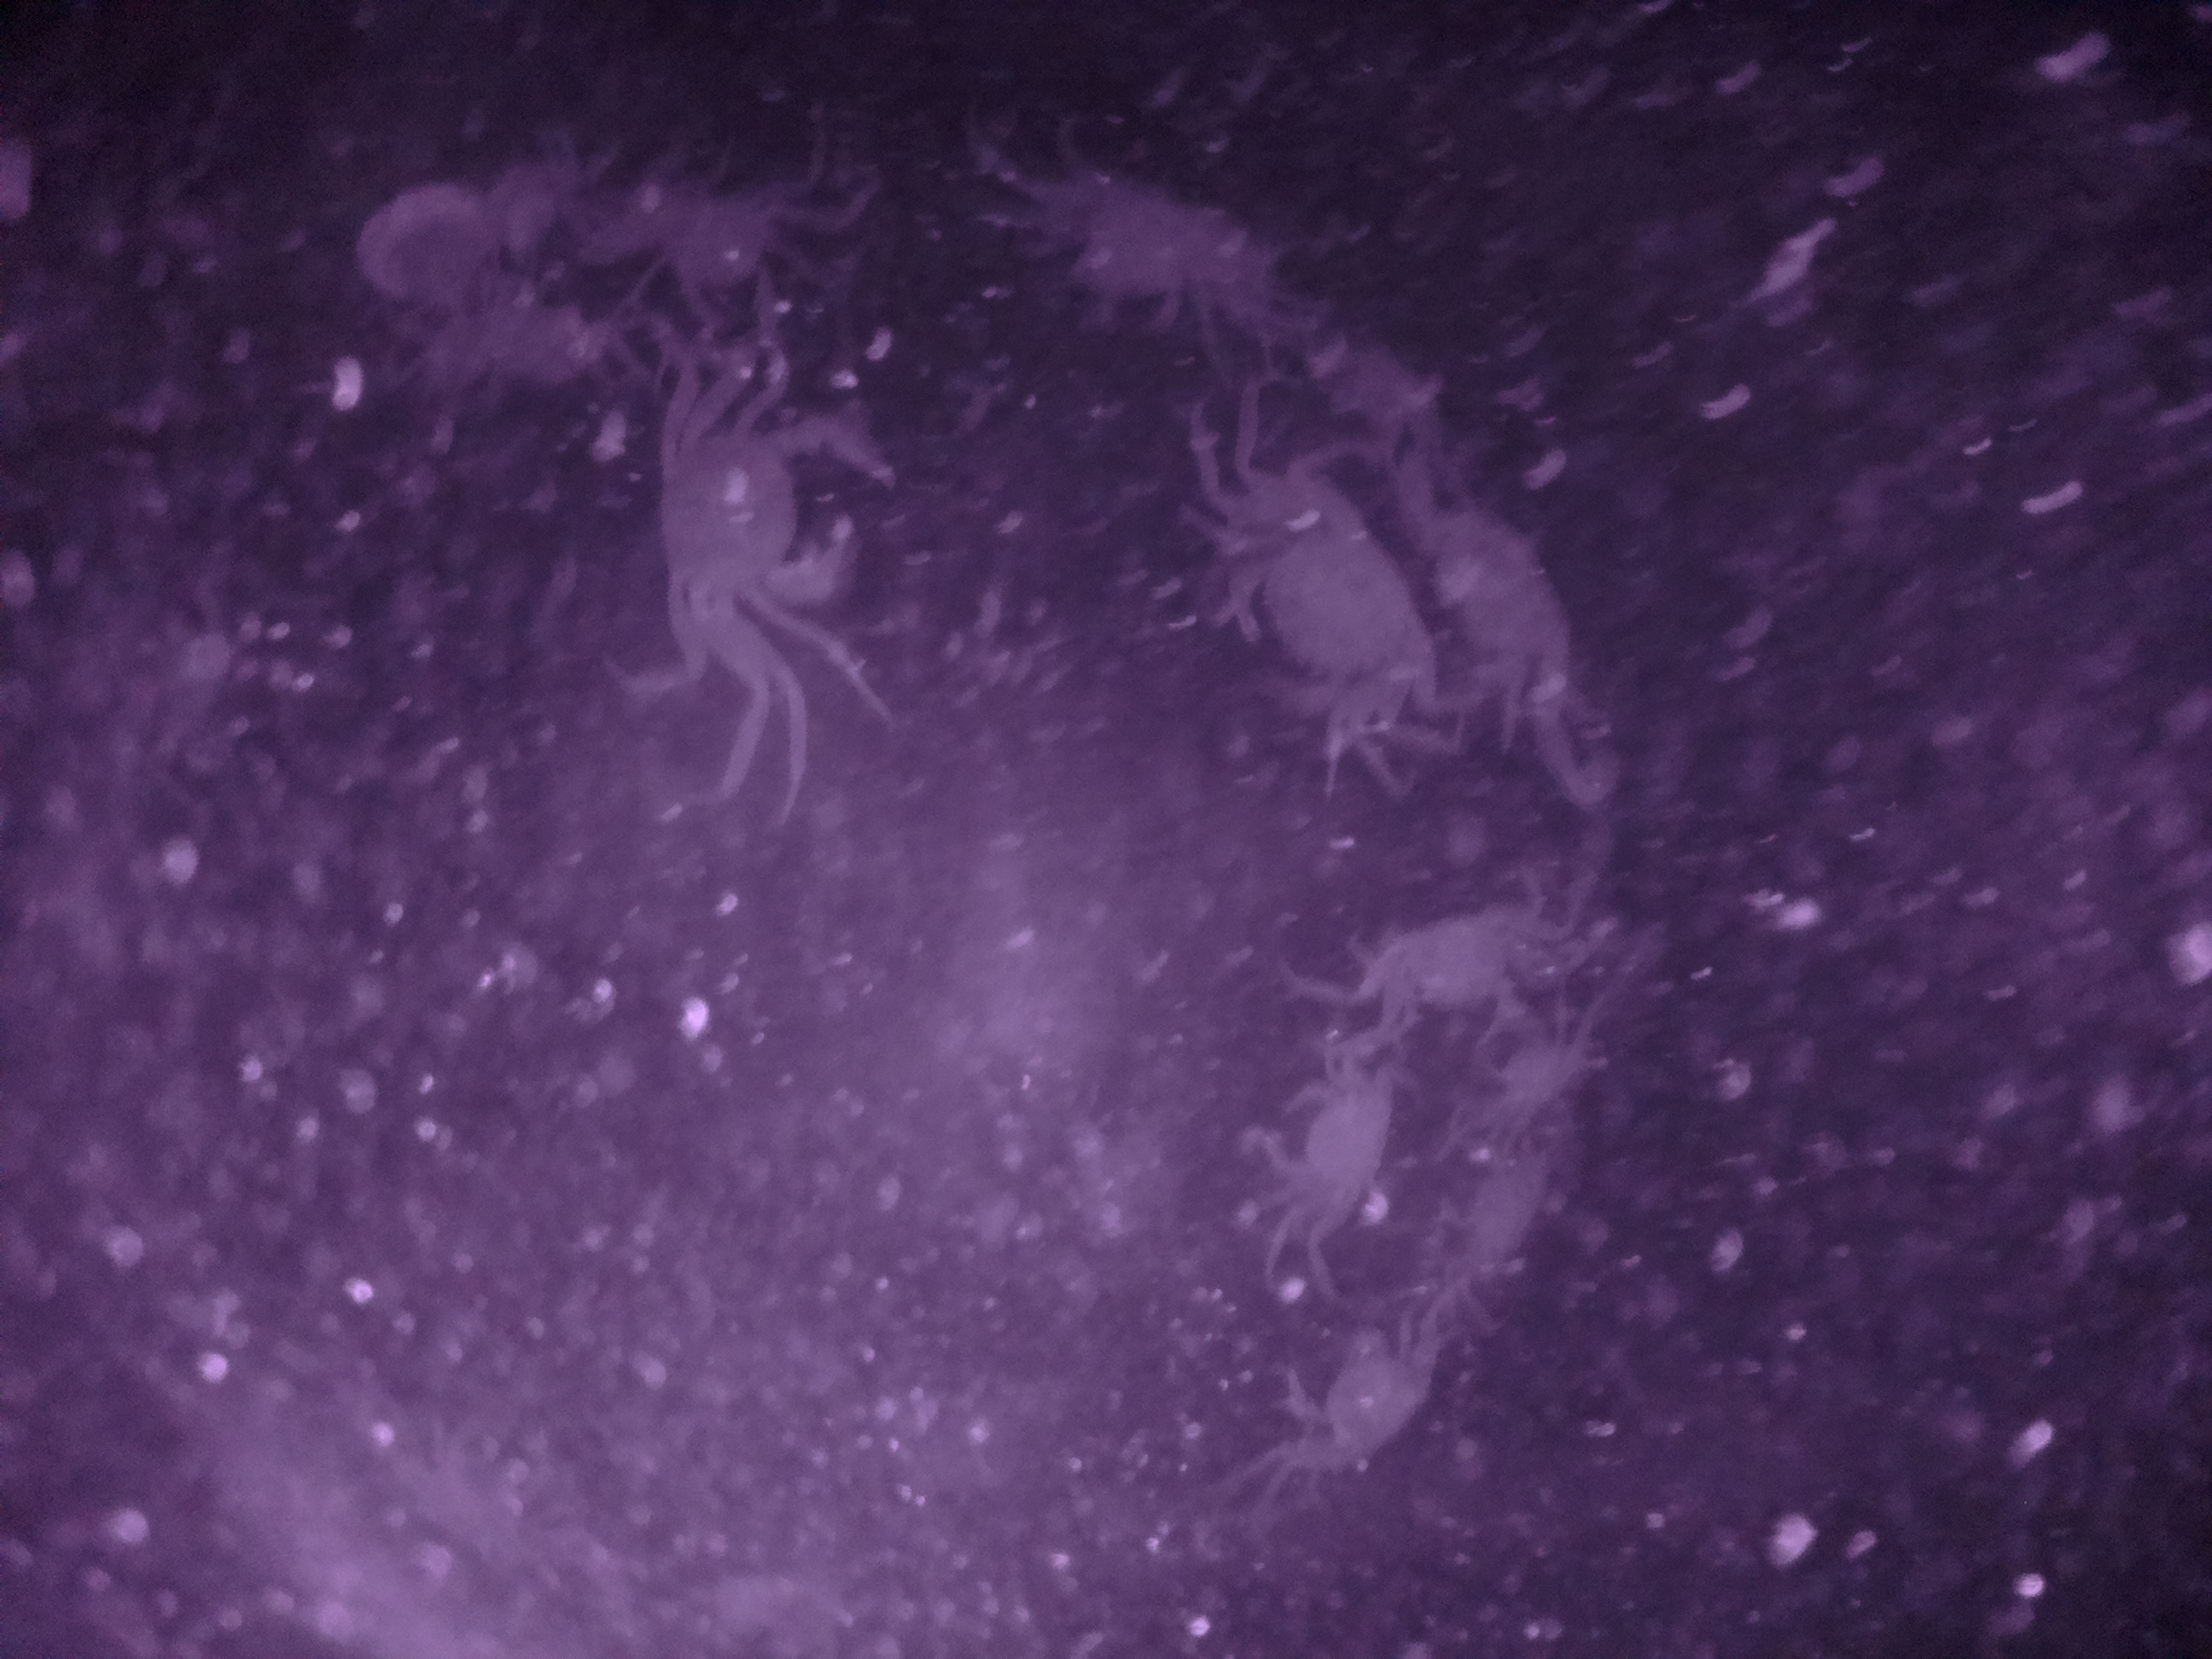Crab: (632, 396, 899, 636), (1247, 1044, 1400, 1237)
